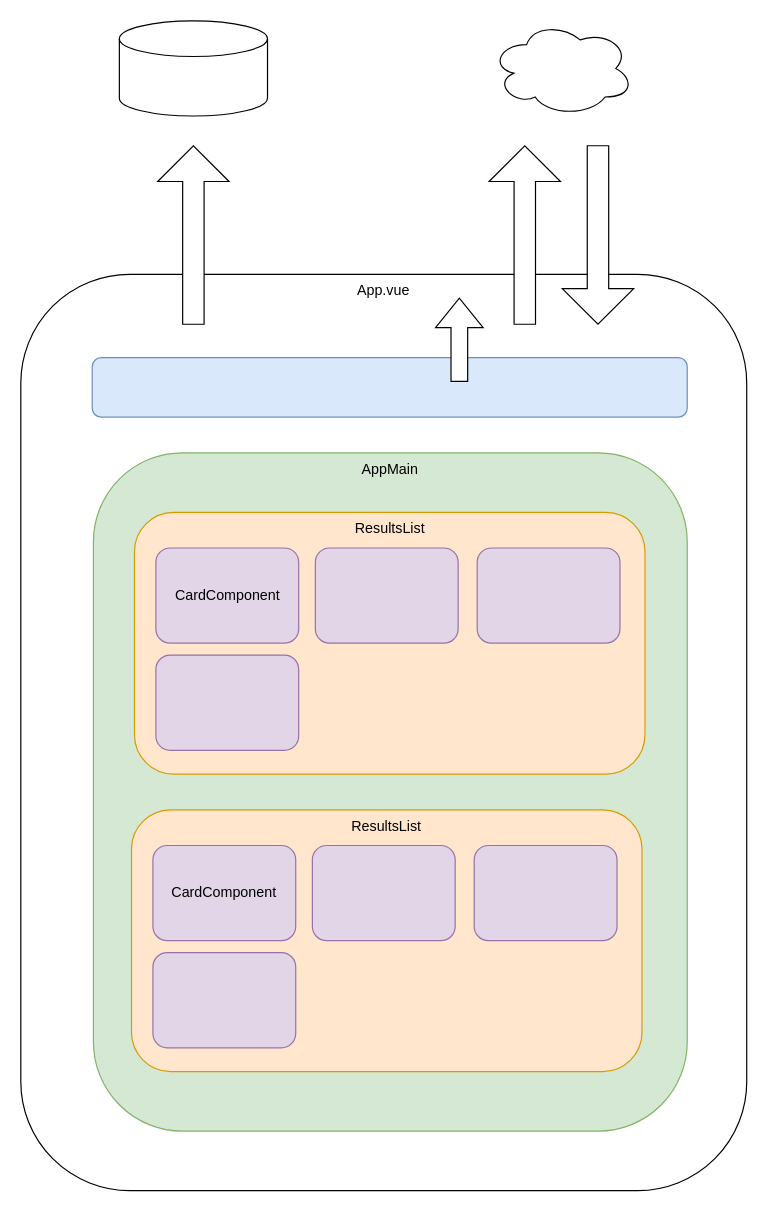
Some shapes in this 768 by 1211 pixel diagram are drawn without their labels. Each missing label, with the centre of its shape:
API: (x=562, y=68)
AppHeader: (x=389, y=386)
store: (x=193, y=68)
